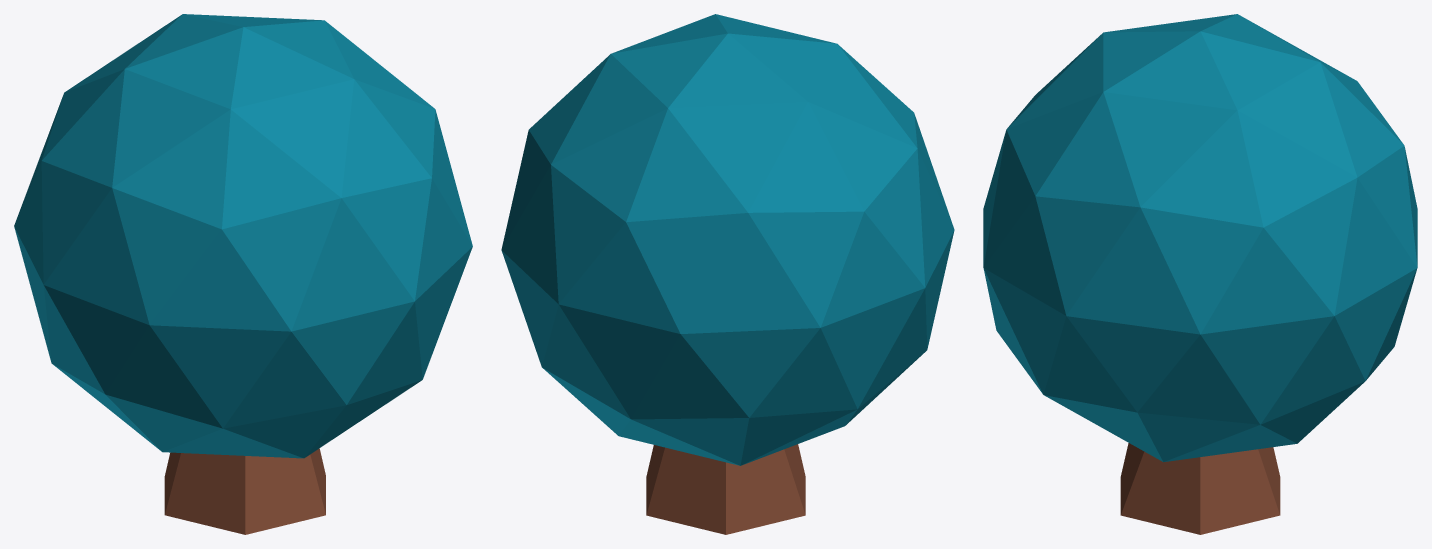
Rendered from Bush_2_summer_blue_mat.fbx.
The picture shows the model from 3 angles, left to right: view 1: azimuth 30°, elevation 25°; view 2: azimuth 150°, elevation 25°; view 3: azimuth 270°, elevation 25°; orthographic projection.
Parts seen in each view (by area): view 1: Bush_2_summer_blue_mat; view 2: Bush_2_summer_blue_mat; view 3: Bush_2_summer_blue_mat.
Boxes of the visible parts, left/top/right/bottom form: Bush_2_summer_blue_mat: left=14, top=14, right=472, bottom=534; Bush_2_summer_blue_mat: left=501, top=14, right=954, bottom=534; Bush_2_summer_blue_mat: left=983, top=14, right=1417, bottom=534.
Bounding box in the file's own units: 35.19 × 39.46 × 33.47.
